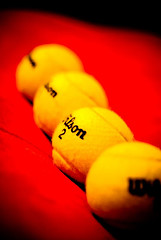tennis ball: (83, 138, 159, 235), (48, 106, 139, 185), (33, 69, 114, 139), (11, 39, 91, 101)
